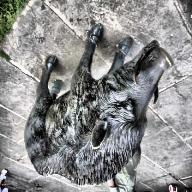boar: (22, 11, 184, 184)
